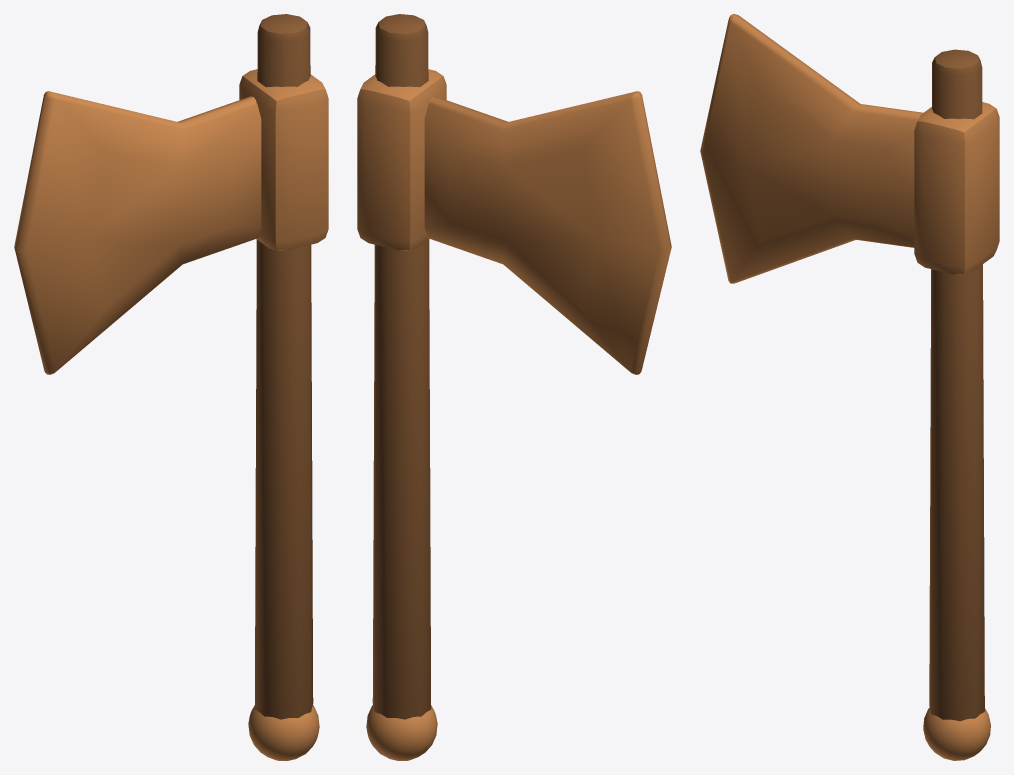
Rendered from axe.glb.
3 views of the same model, side by side, from view 1: azimuth 30°, elevation 25°; view 2: azimuth 150°, elevation 25°; view 3: azimuth 330°, elevation 25° (orthographic). The views are drawn at different scales.
Visible parts, largest first — view 1: wpn_axe; view 2: wpn_axe; view 3: wpn_axe.
Boxes of the visible parts, x1,y1,x2,y2 form: wpn_axe: (14, 14, 328, 760); wpn_axe: (357, 14, 671, 760); wpn_axe: (700, 14, 999, 760).
Bounding box in the file's own units: 0.58 × 1.36 × 0.14.
